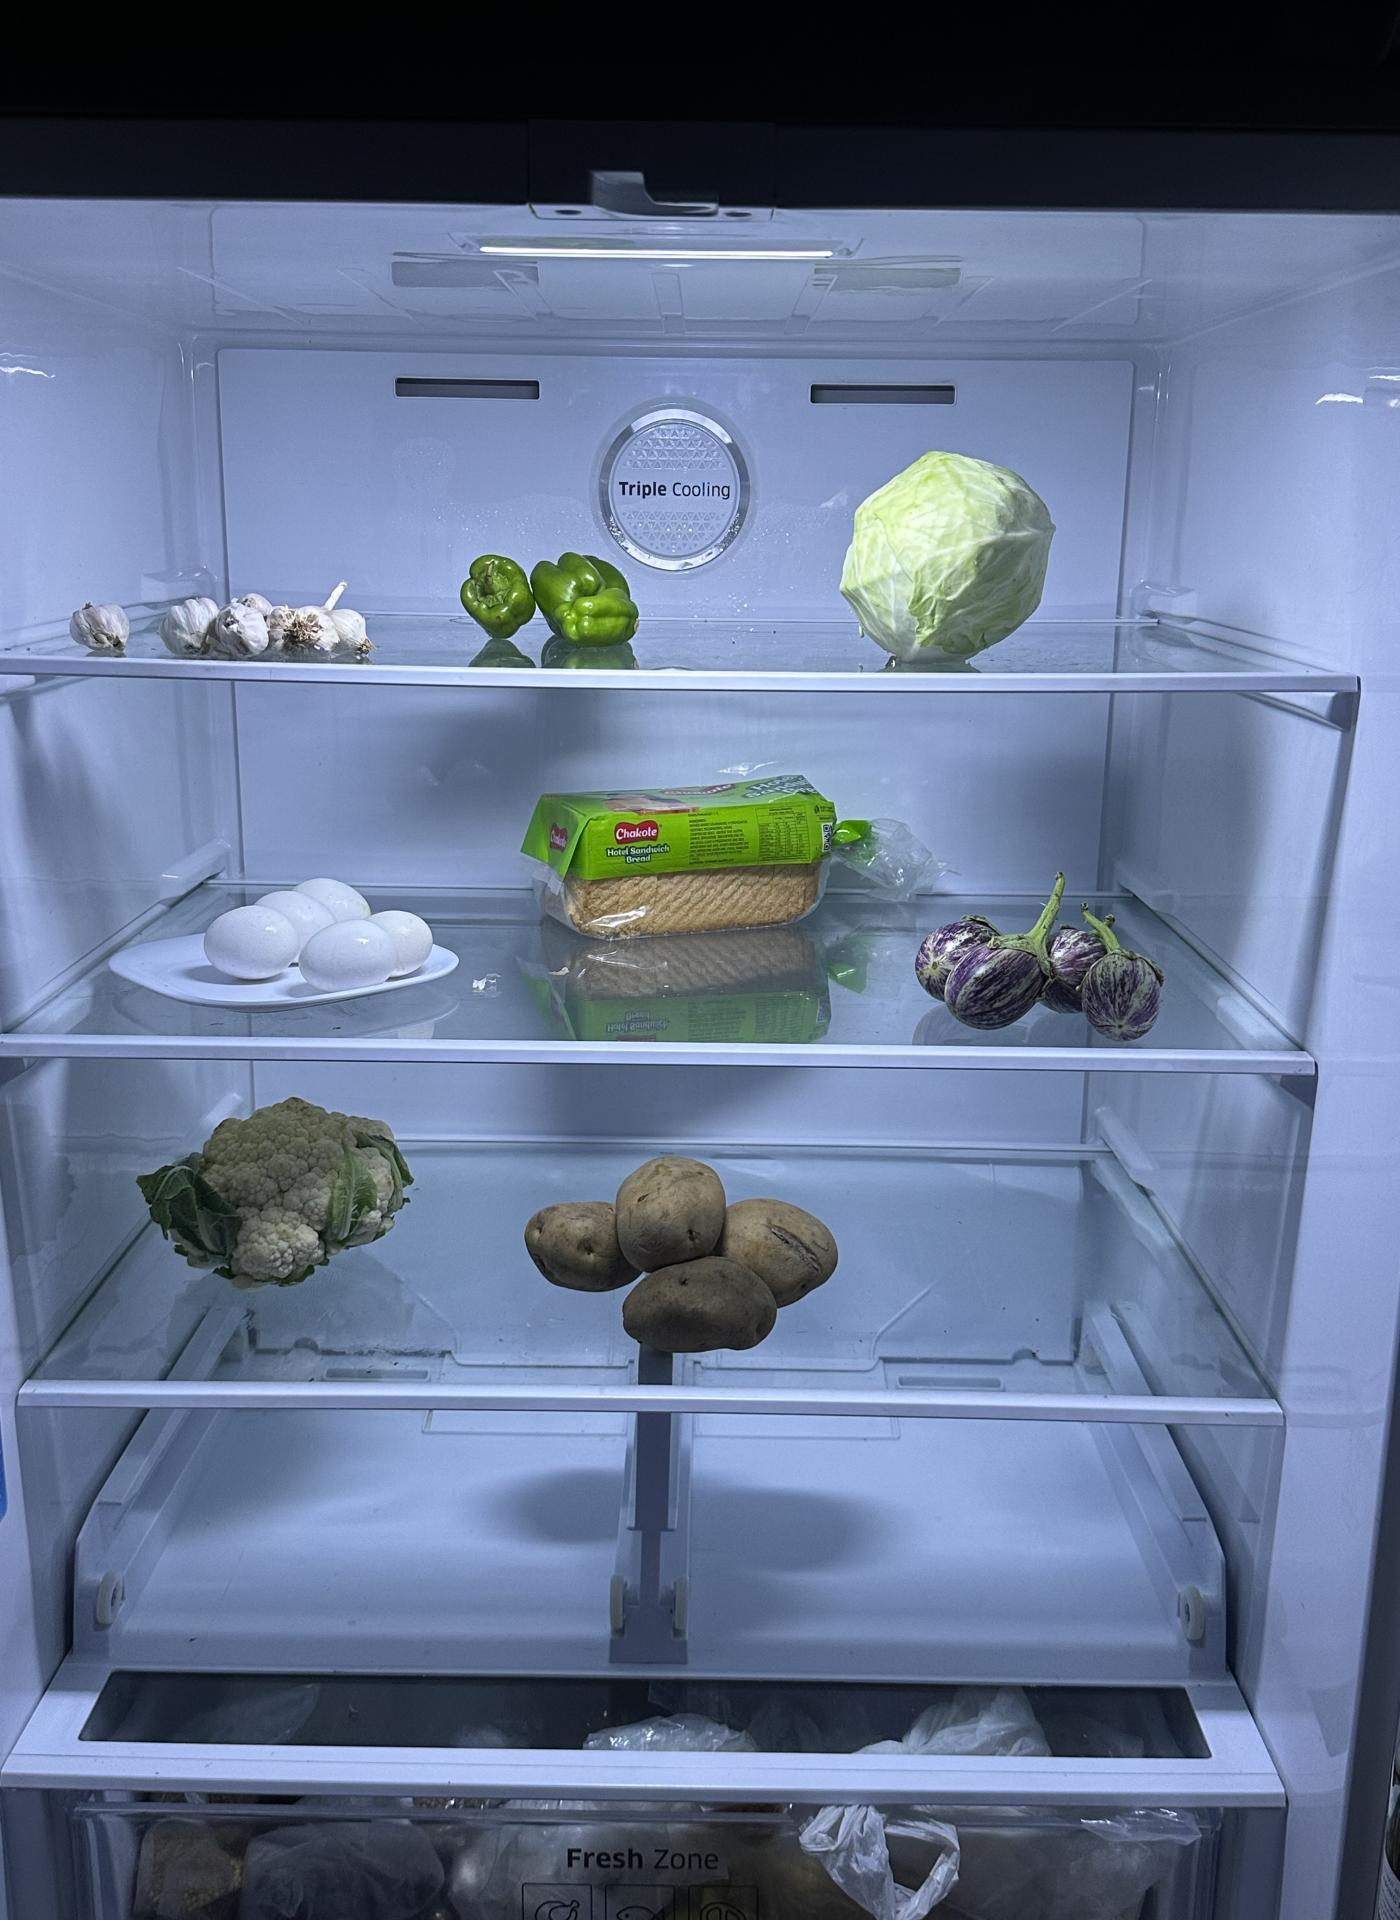bread: (519, 765, 848, 942)
brinjal: (899, 897, 1160, 1026)
cabbage: (838, 444, 1053, 662)
capsicum: (461, 549, 644, 659)
cauliflower: (142, 1099, 417, 1292)
egg: (200, 872, 435, 984)
garlic: (168, 578, 377, 669)
potato: (526, 1155, 847, 1361)
